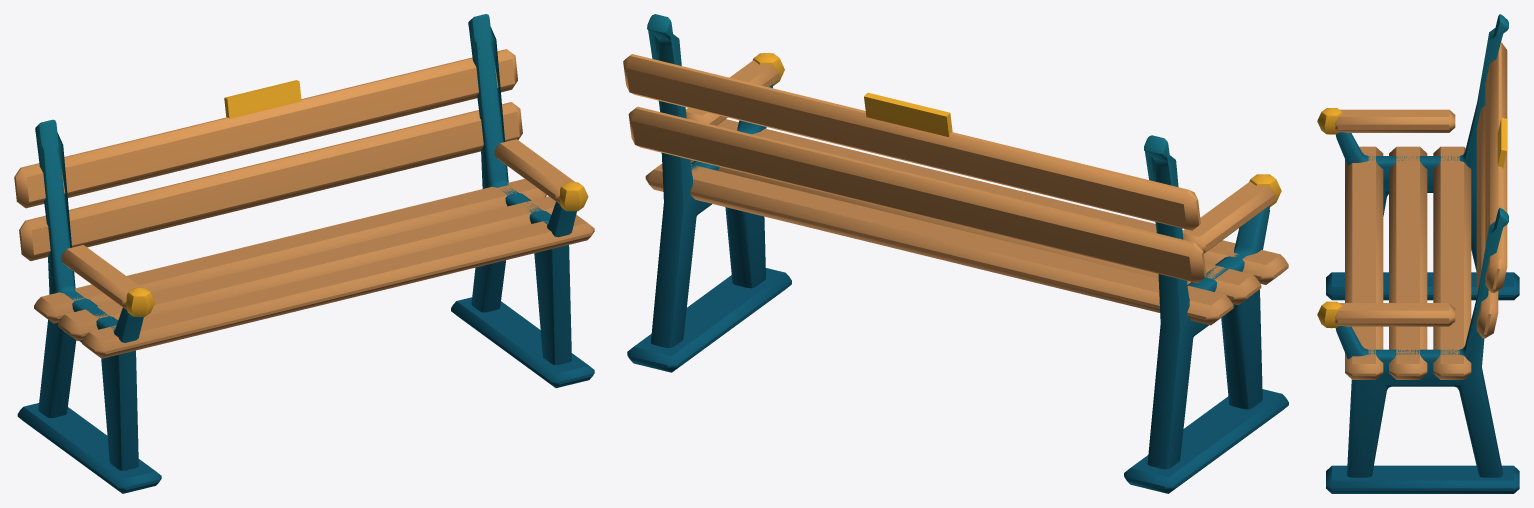
File: bench.glb
3 views of the same model, side by side, from view 1: azimuth 30°, elevation 25°; view 2: azimuth 150°, elevation 25°; view 3: azimuth 270°, elevation 25° (orthographic). The views are drawn at different scales.
Parts seen in each view (by area): view 1: bench; view 2: bench; view 3: bench.
Boxes of the visible parts, left/top/right/bottom form: bench: left=14, top=14, right=594, bottom=493; bench: left=623, top=14, right=1288, bottom=493; bench: left=1317, top=14, right=1519, bottom=493.
Bounding box in the file's own units: 1.8 × 1.04 × 0.69.
